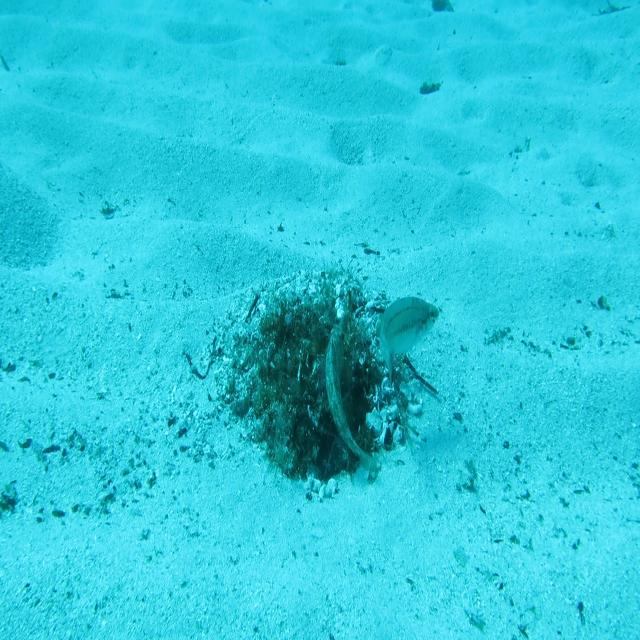LF: (318, 318, 380, 479)
core_nest: (289, 320, 332, 353)
female: (378, 293, 441, 390)
nest: (213, 251, 425, 506)
vegetation: (592, 0, 636, 19), (417, 77, 442, 95), (427, 0, 457, 15)
